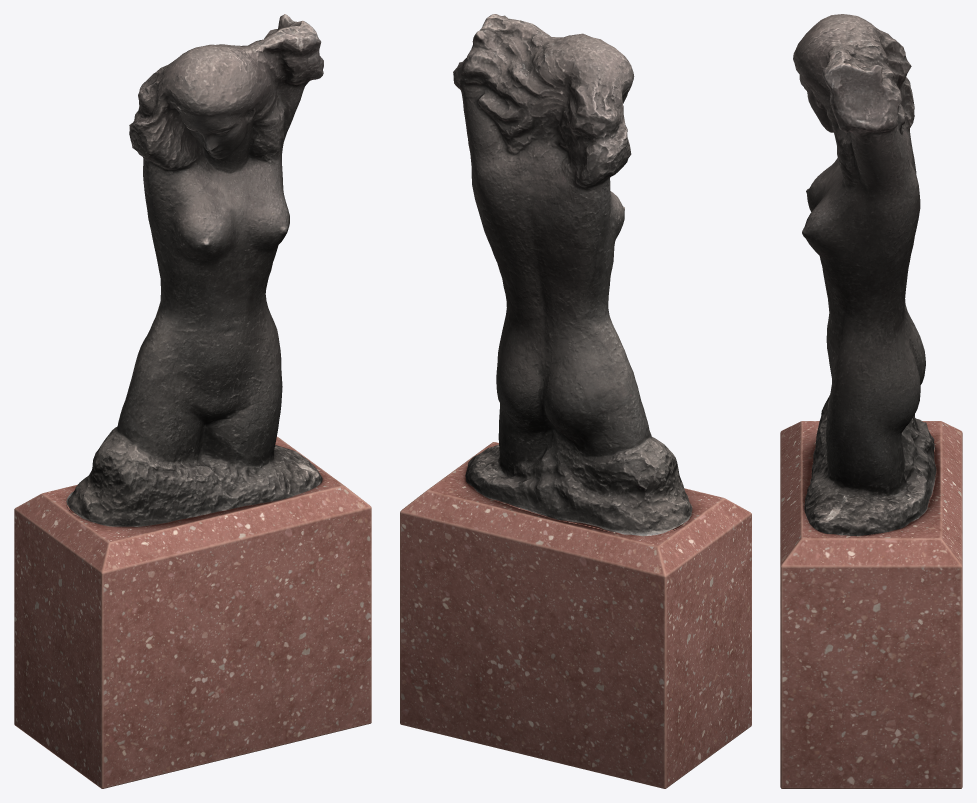
Rendered from Heroica.glb.
The picture shows the model from 3 angles, left to right: view 1: azimuth 30°, elevation 25°; view 2: azimuth 150°, elevation 25°; view 3: azimuth 270°, elevation 25°; orthographic projection. The views are drawn at different scales.
Parts seen in each view (by area): view 1: base, Heroica_lowBAKE; view 2: base, Heroica_lowBAKE; view 3: base, Heroica_lowBAKE.
Boxes of the visible parts, x1=… form: base: x1=14, y1=436, x2=371, y2=788; Heroica_lowBAKE: x1=66, y1=14, x2=323, y2=526; base: x1=400, y1=442, x2=751, y2=788; Heroica_lowBAKE: x1=453, y1=14, x2=692, y2=536; base: x1=780, y1=421, x2=962, y2=788; Heroica_lowBAKE: x1=793, y1=14, x2=936, y2=535.
Bounding box in the file's own units: 0.6357 × 1.54 × 0.3599.
1 material, 1 textured.
